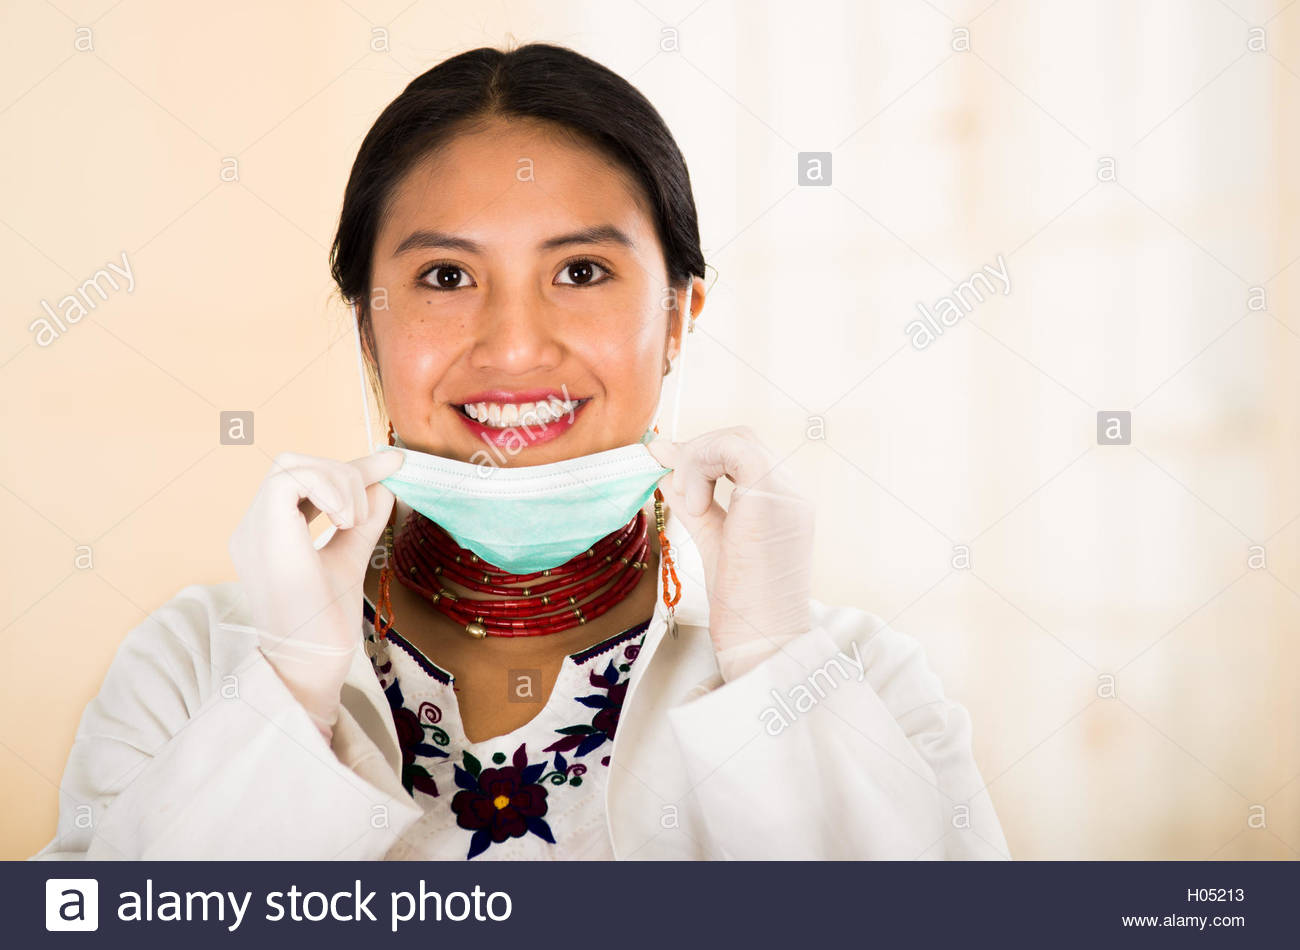mask_weared_incorrect: (386, 217, 658, 534)
